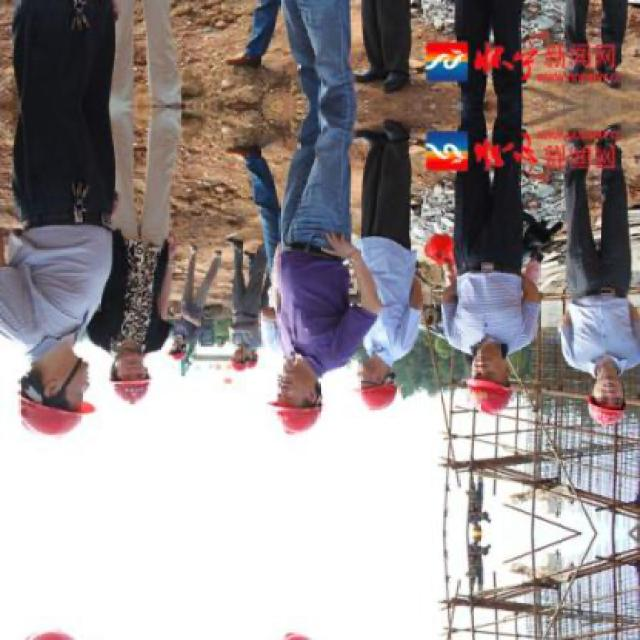con casco: (226, 364, 369, 448), (1, 368, 115, 452), (437, 343, 528, 425), (99, 335, 162, 424)
